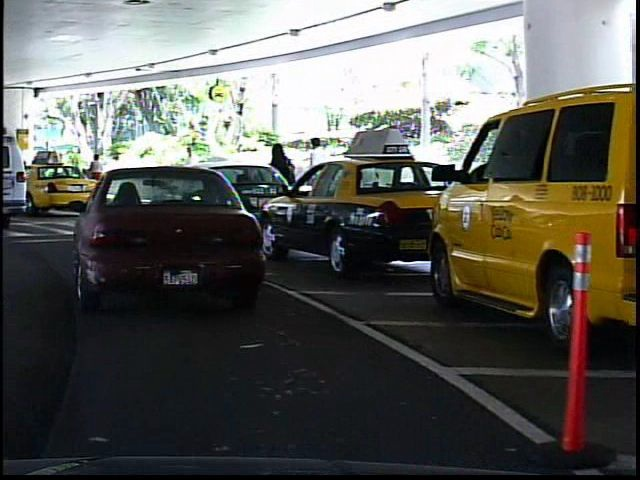person: (263, 136, 298, 224), (302, 132, 333, 215), (177, 140, 203, 204), (83, 148, 107, 196)
